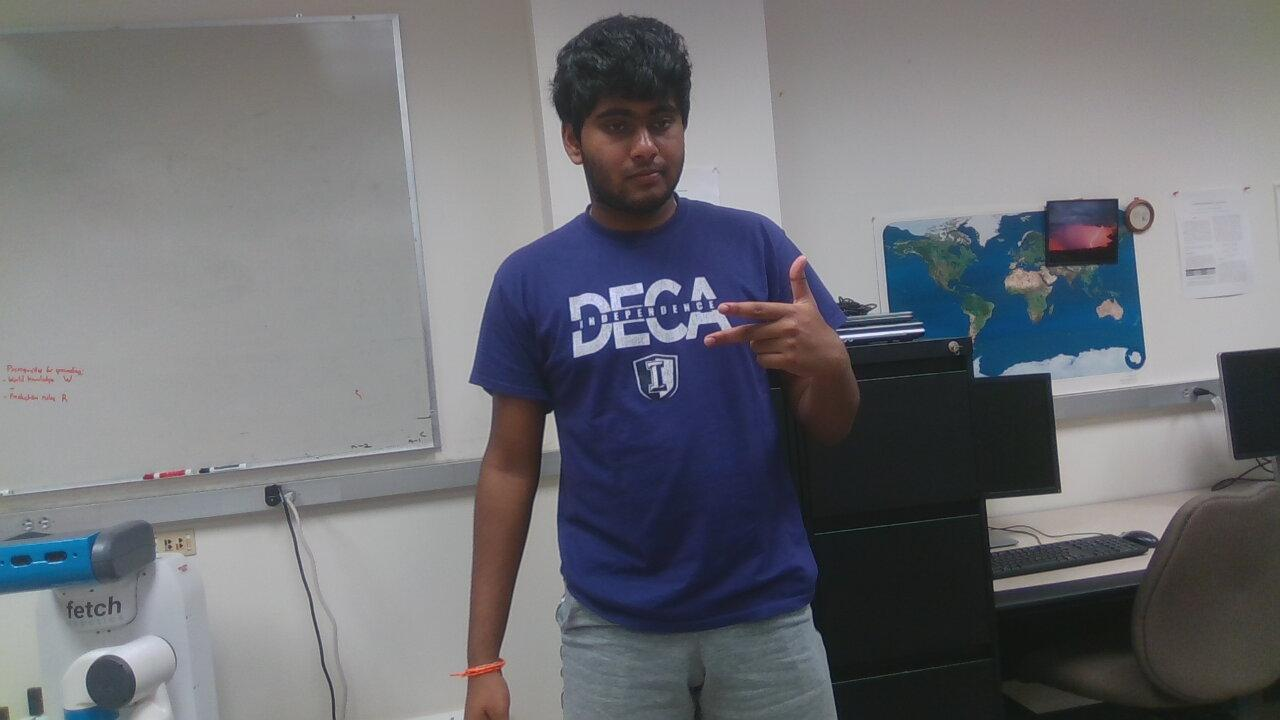hands: (706, 252, 857, 393)
